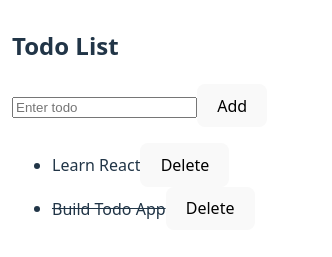
TodoList Component › can add a new todo
Type "New Todo" into the field with test id "input-todo". click: coordinates (104, 107)
box: [12, 97, 197, 118]
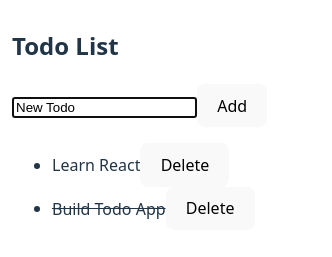
Click the button with test id "add-button". click: coordinates (232, 106)
box: [197, 84, 267, 127]
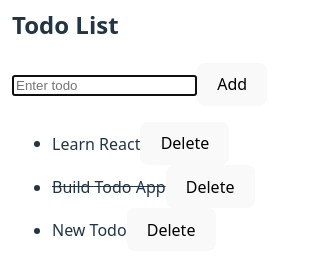
Expected: the list item "New Todo" is shown, [52, 219, 127, 241]
